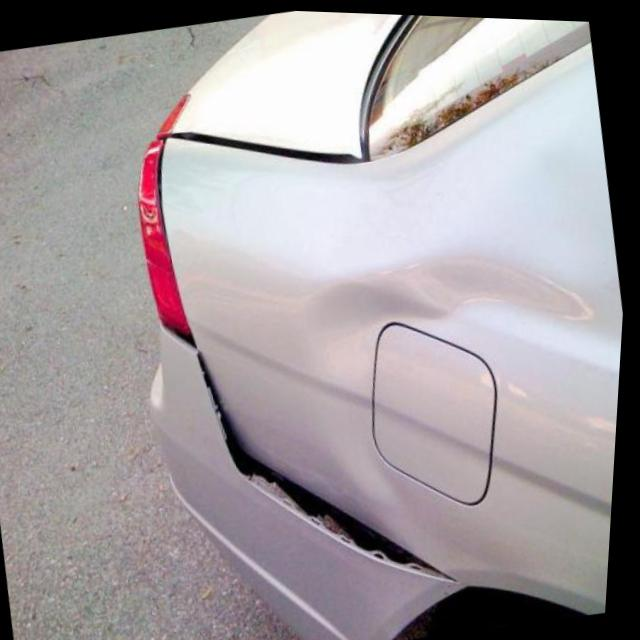Car-Damage: (189, 309, 475, 615), (292, 223, 599, 387)
